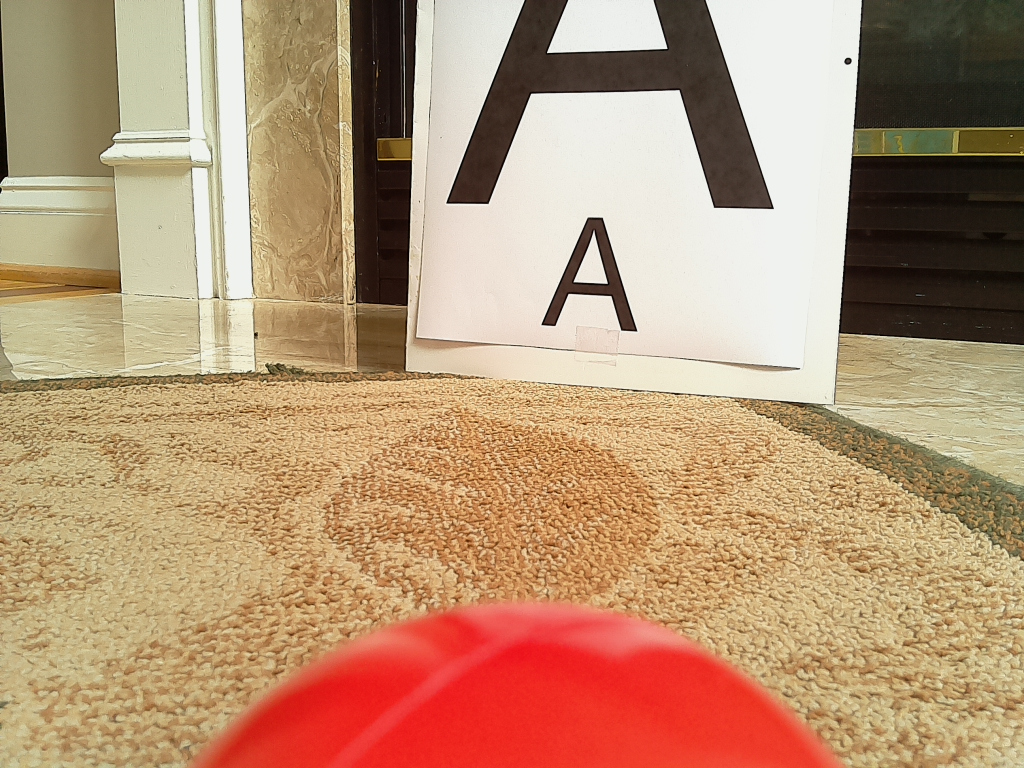letter: (539, 218, 638, 332)
